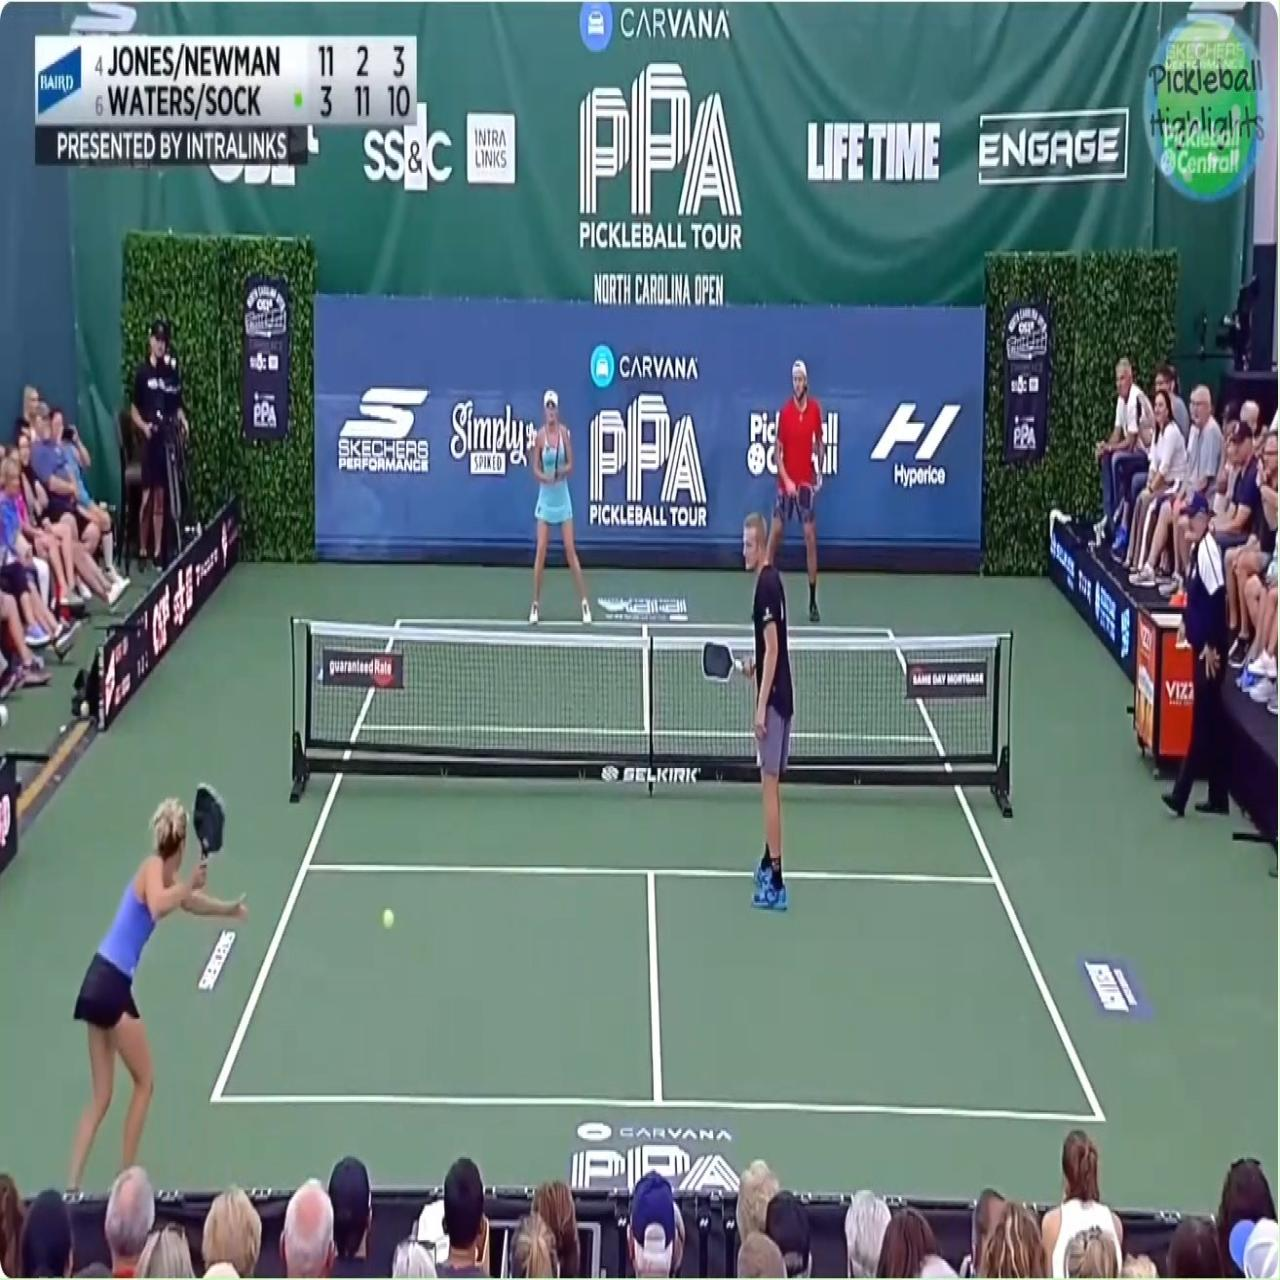pickleball: (380, 906, 395, 928)
